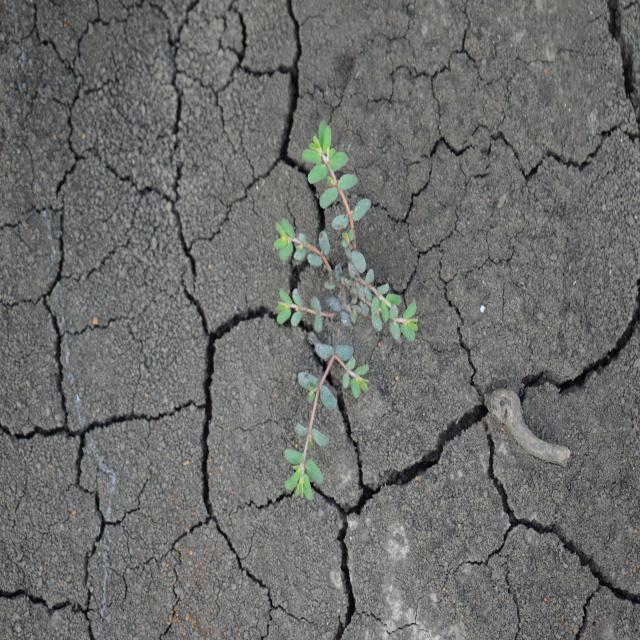SpottedSpurge: (272, 118, 421, 502)
